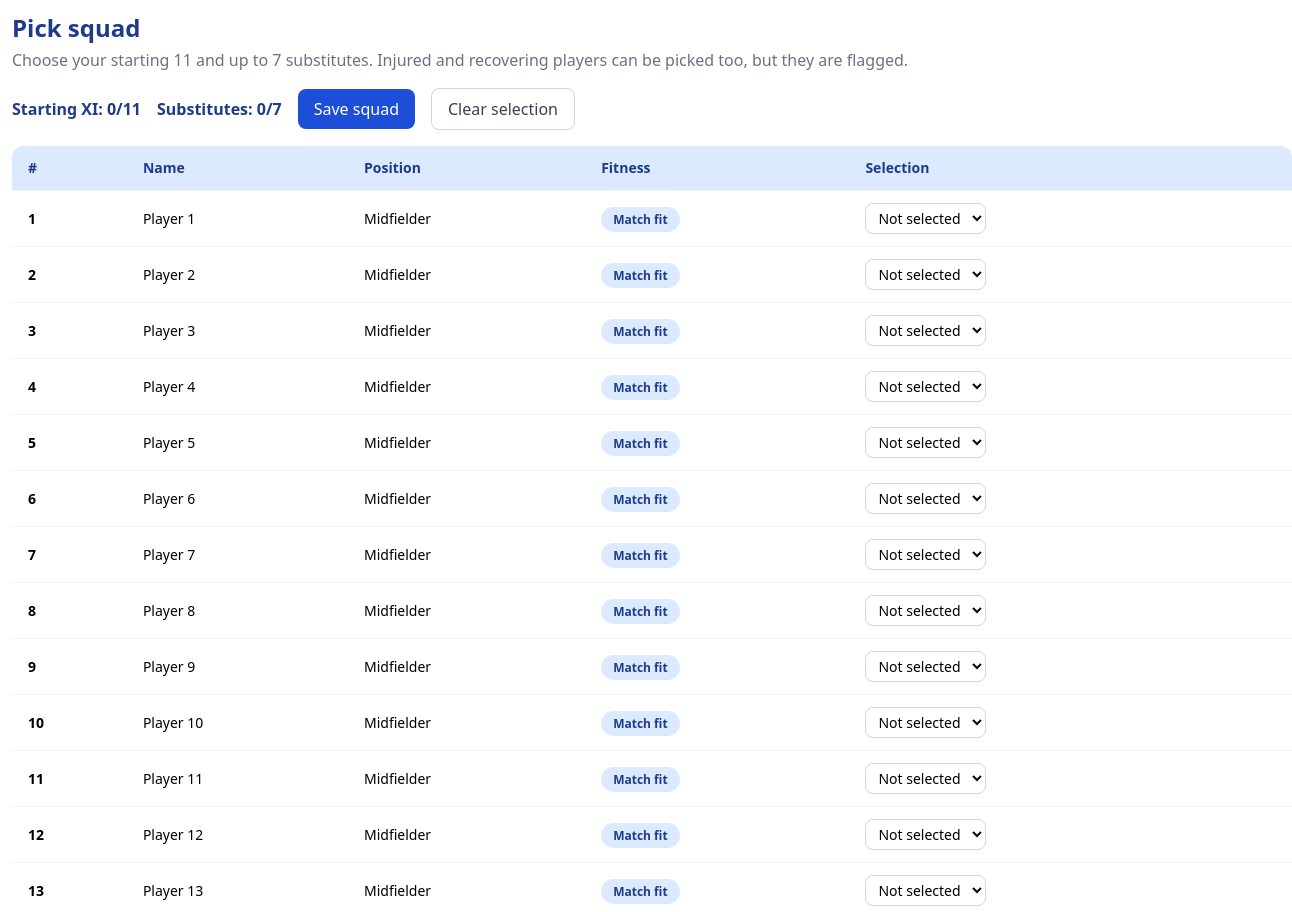
needs exactly 11 starters to save
Expected: the text "Player 1" is shown, top-left (127, 190), bottom-right (348, 246)
Select "Starting XI" in the dropdown named "Selection for Player 1" at coordinates (926, 218), box top-left (865, 203), bottom-right (986, 234)
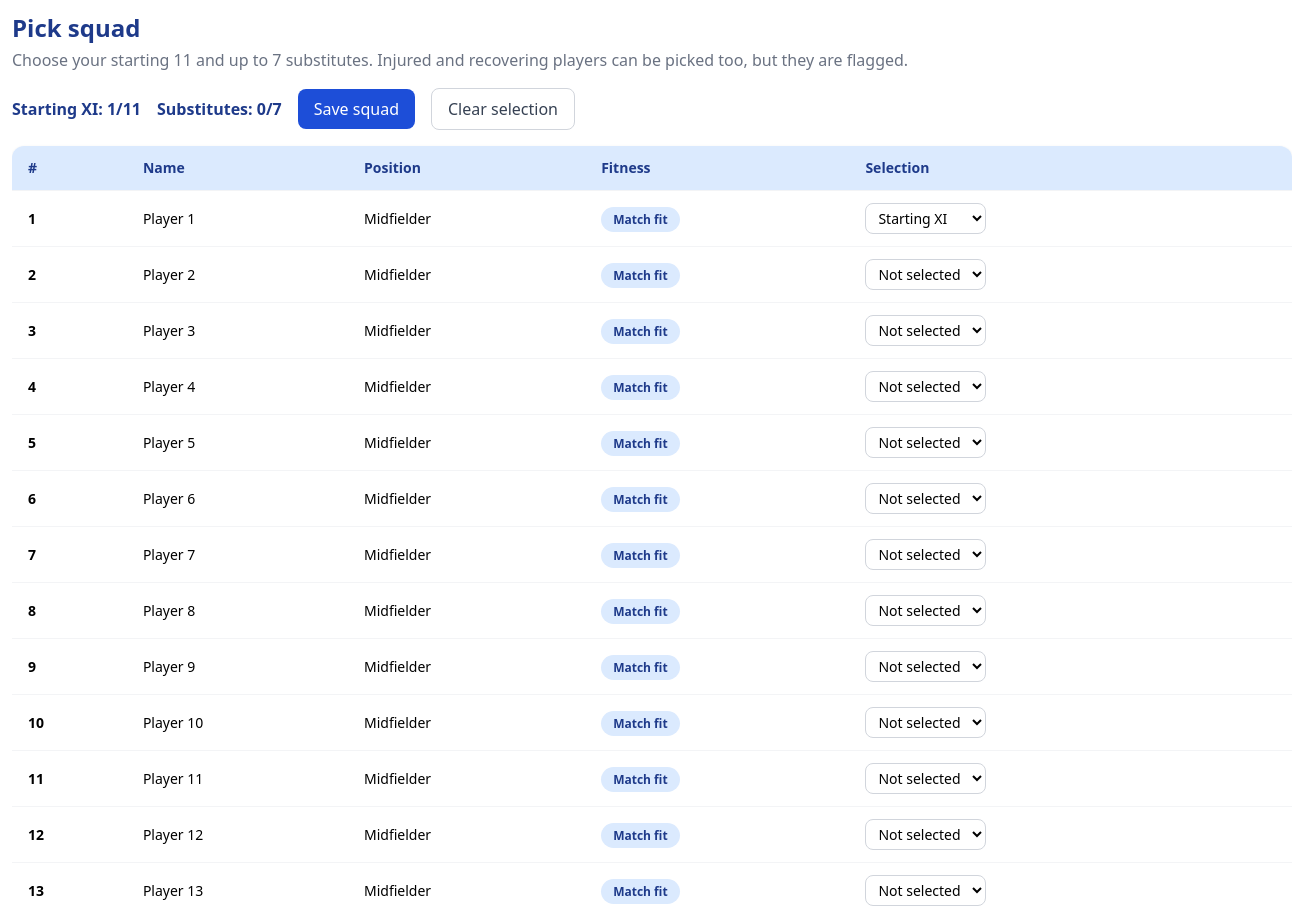
Click the button "Save squad".
click(356, 109)  # box top-left (298, 89), bottom-right (415, 129)
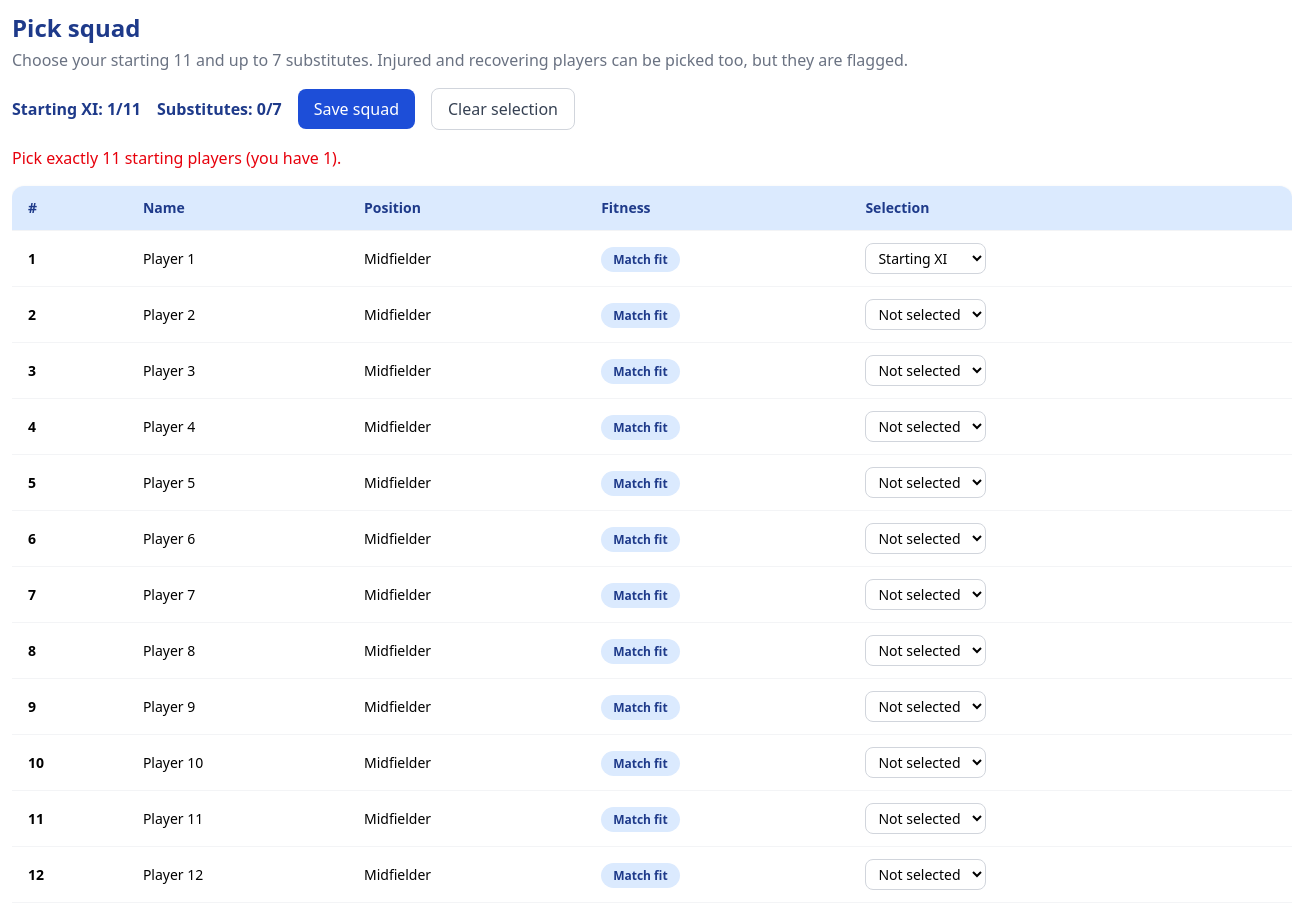
Expected: the text "Pick exactly 11 starting players (you have 1)." is shown, top-left (12, 147), bottom-right (341, 169)
